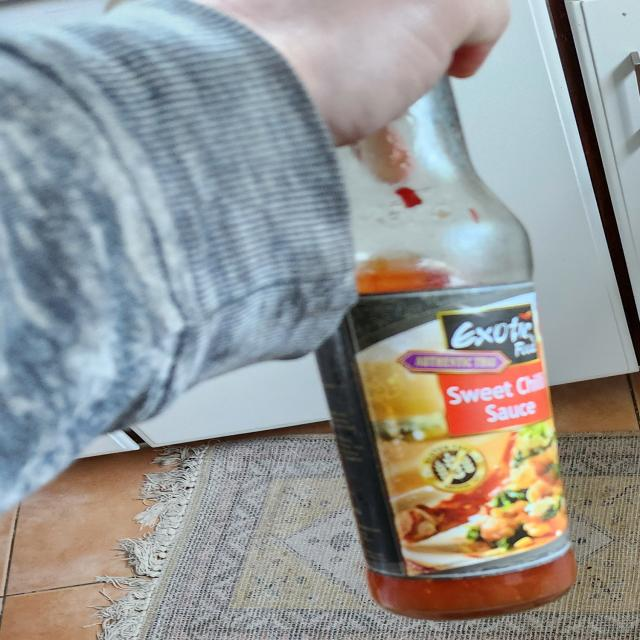sweet chili sauce: (316, 72, 578, 618)
